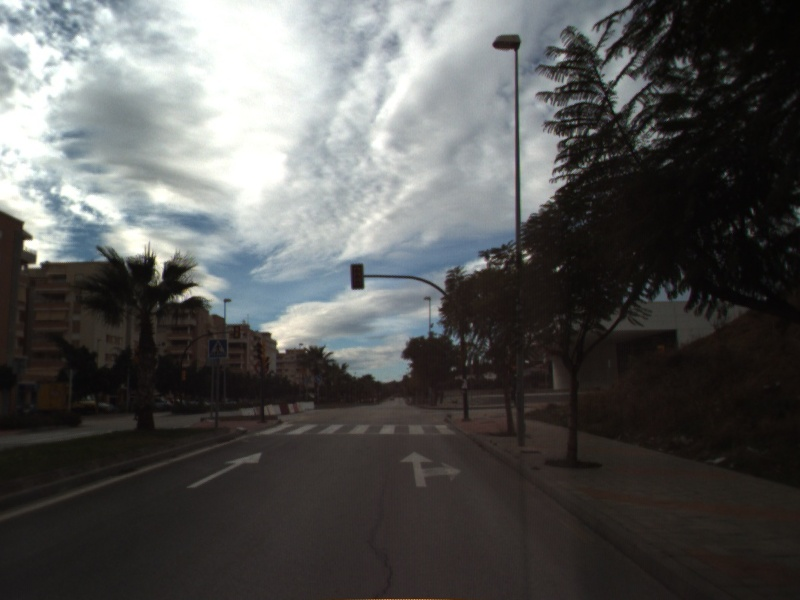STRAIGHT: (185, 450, 264, 490)
STRAIGHT_RIGHT: (398, 450, 463, 489)
